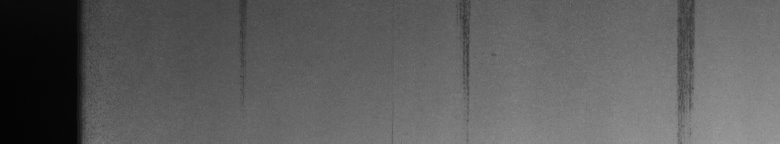hd: (671, 4, 700, 136)
